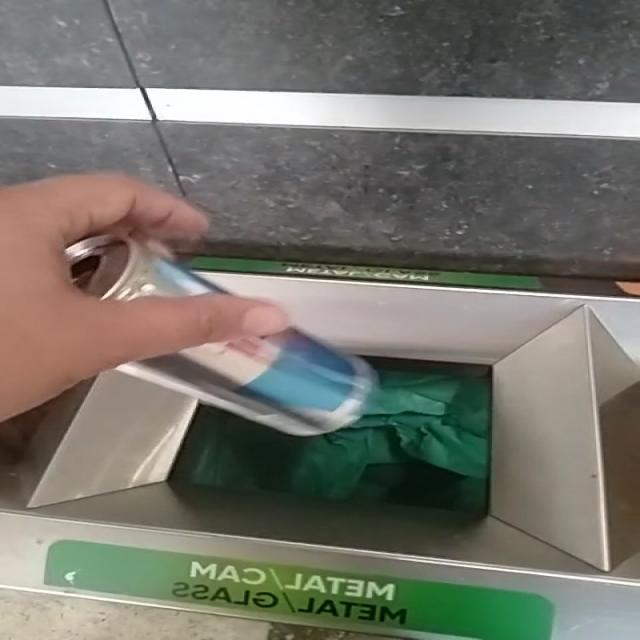bin: (0, 268, 639, 640)
metal: (117, 329, 379, 436), (64, 236, 227, 300)
